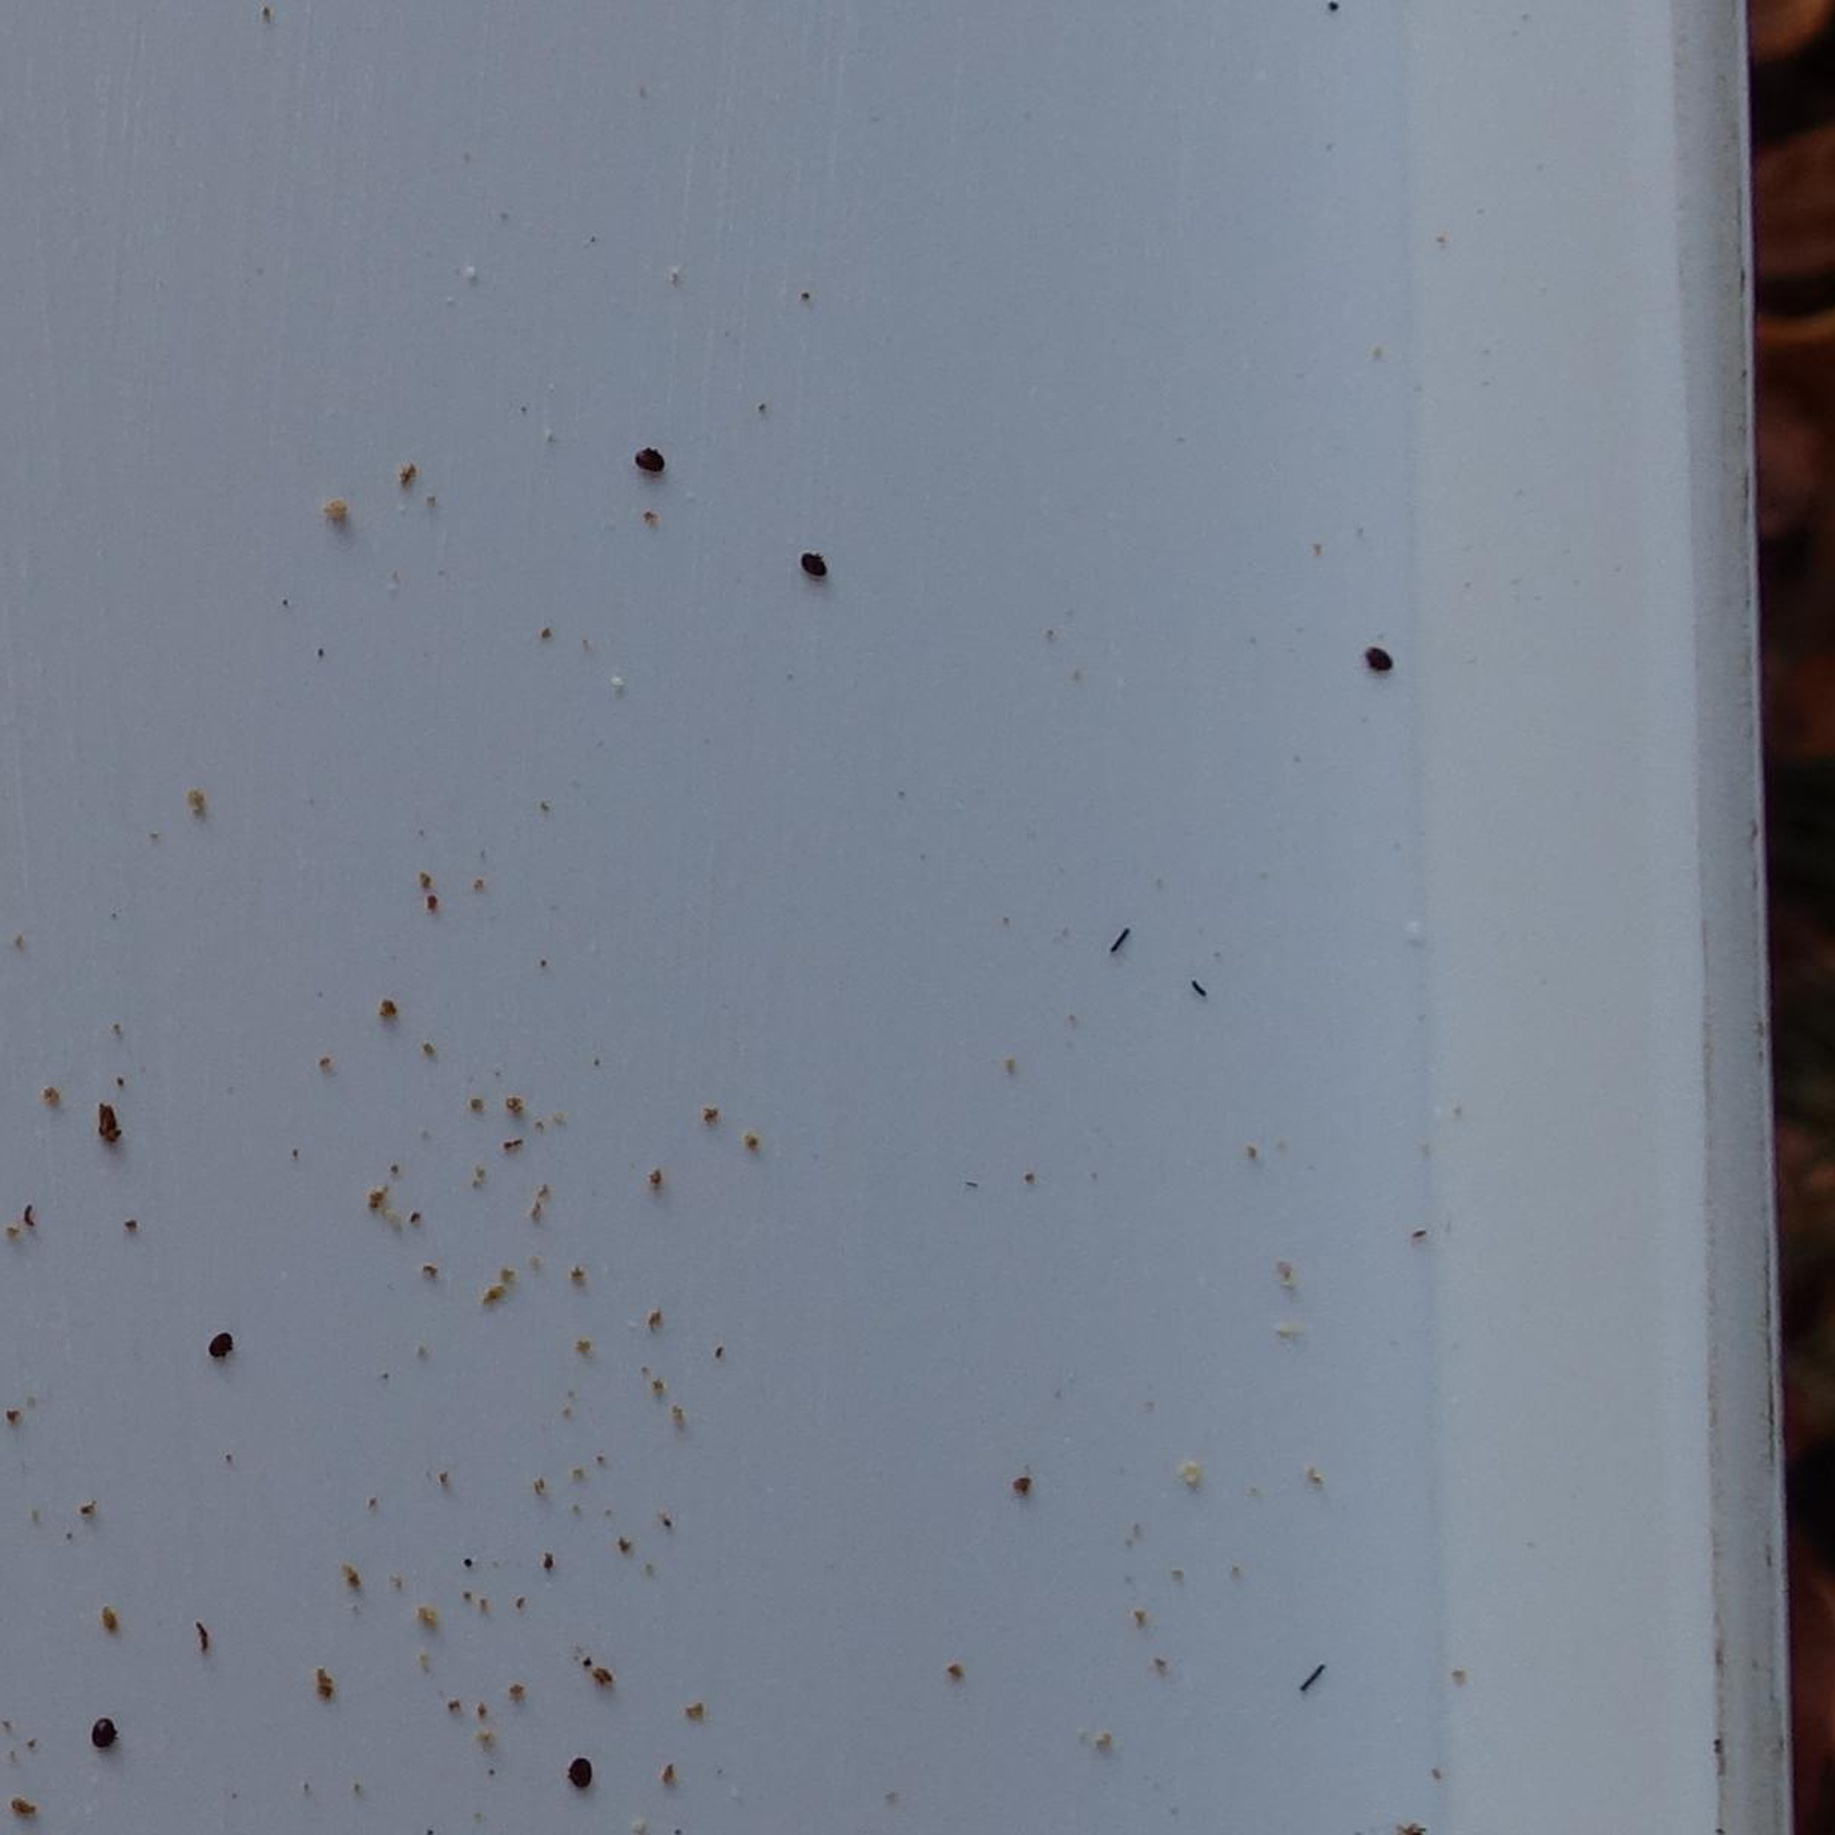Varroa: (632, 445, 665, 479), (86, 1717, 114, 1748), (570, 1758, 597, 1786), (1364, 645, 1391, 672), (208, 1331, 234, 1356), (802, 555, 825, 578), (581, 1751, 586, 1775)
